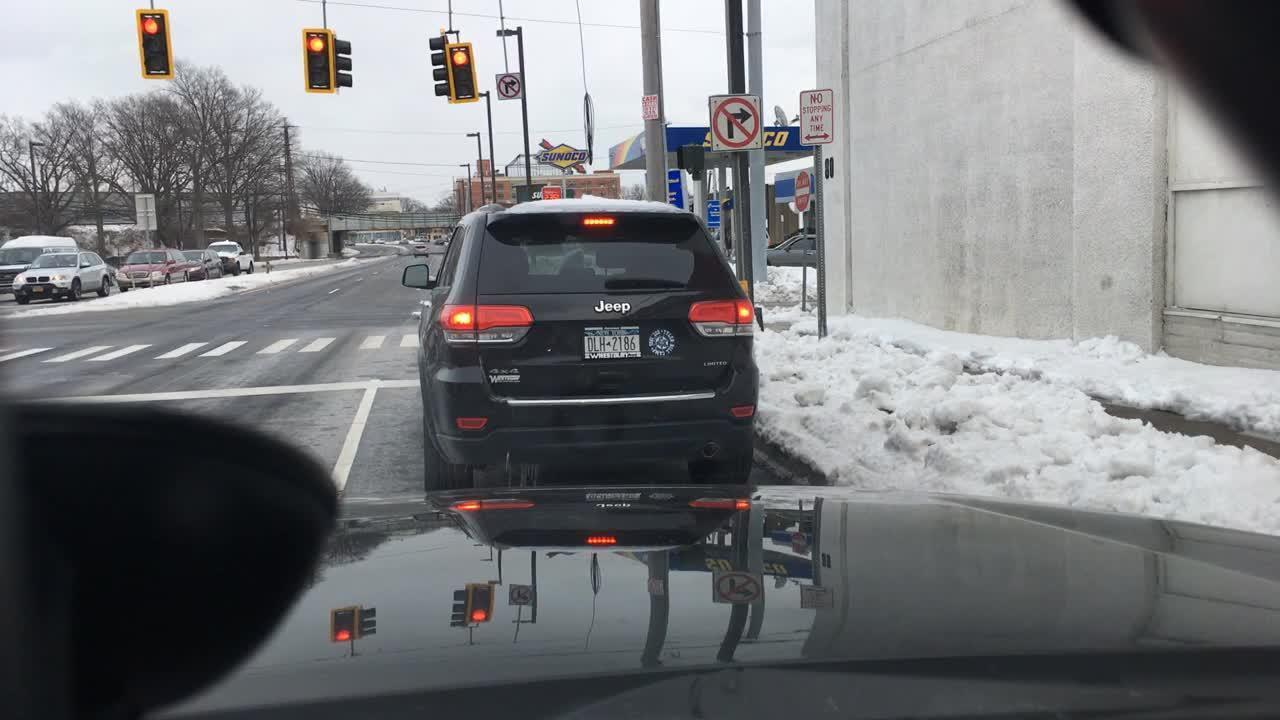jeep: (585, 293, 634, 323)
